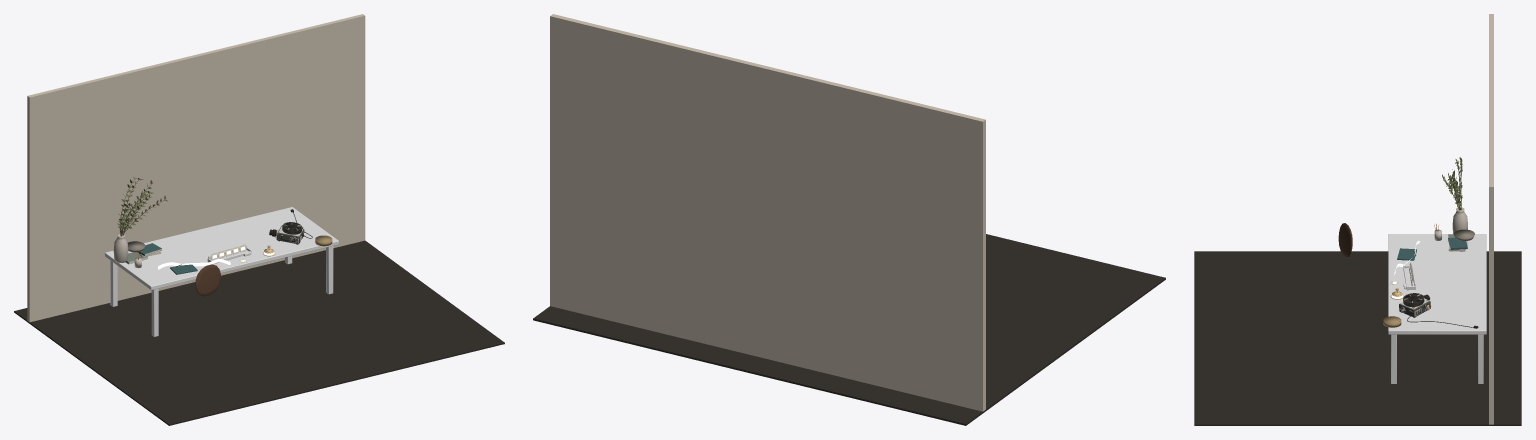
The model's file is projector.glb.
3 views of the same model, side by side, from view 1: azimuth 30°, elevation 25°; view 2: azimuth 150°, elevation 25°; view 3: azimuth 270°, elevation 25° (orthographic). The views are drawn at different scales.
Parts seen in each view (by area): view 1: Wall, Floor, Desk_Top_Rustic; view 2: Wall, Floor; view 3: Floor, Desk_Top_Rustic, Wall, projector_body.
Boxes of the visible parts, x1,y1,x2,y2 form: Wall: (27,14,365,322); Floor: (14,240,504,425); Desk_Top_Rustic: (104,177,338,290); Wall: (550,14,985,411); Floor: (533,234,1165,425); Floor: (1194,223,1521,425); Desk_Top_Rustic: (1383,157,1486,334); Wall: (1489,14,1493,424); projector_body: (1399,298,1430,317).
Size of the model in its own units: 5 by 3.22 by 4.
